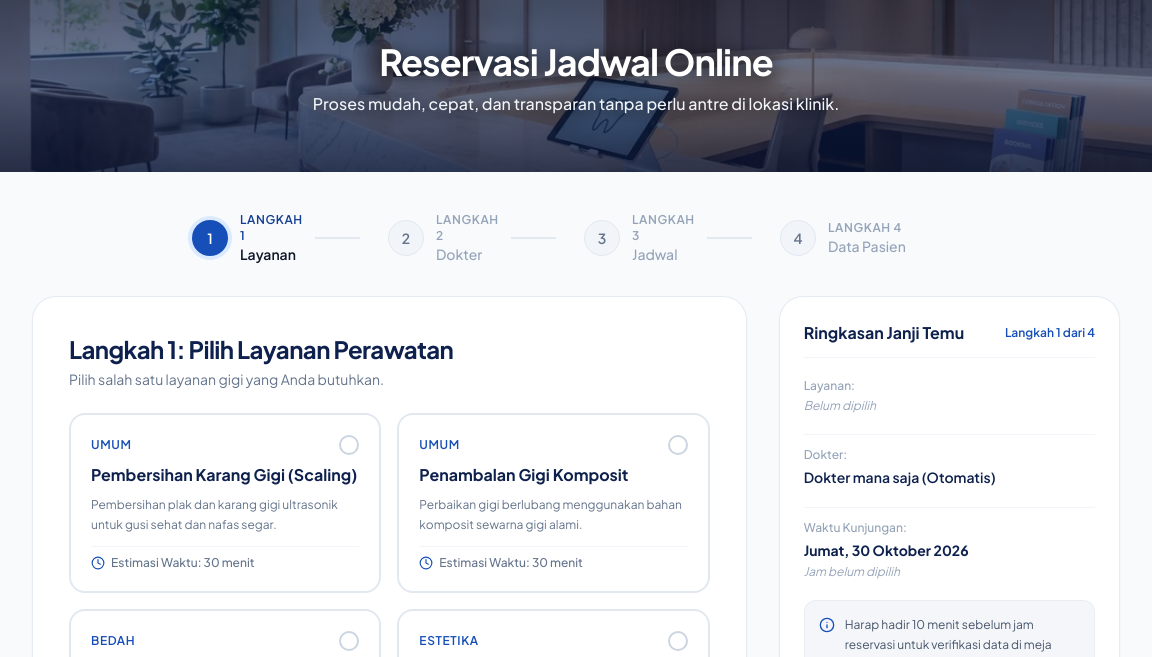
Booking.vue (FR-7.1 - FR-7.11) › selects service and proceeds to Step 2 (FR-7.2)
This screenshot has width=1152, height=657.
Click the element with class "cursor-pointer" that starts with "Umum" at (225,503), box [69,413,381,593]
(page scrolled)
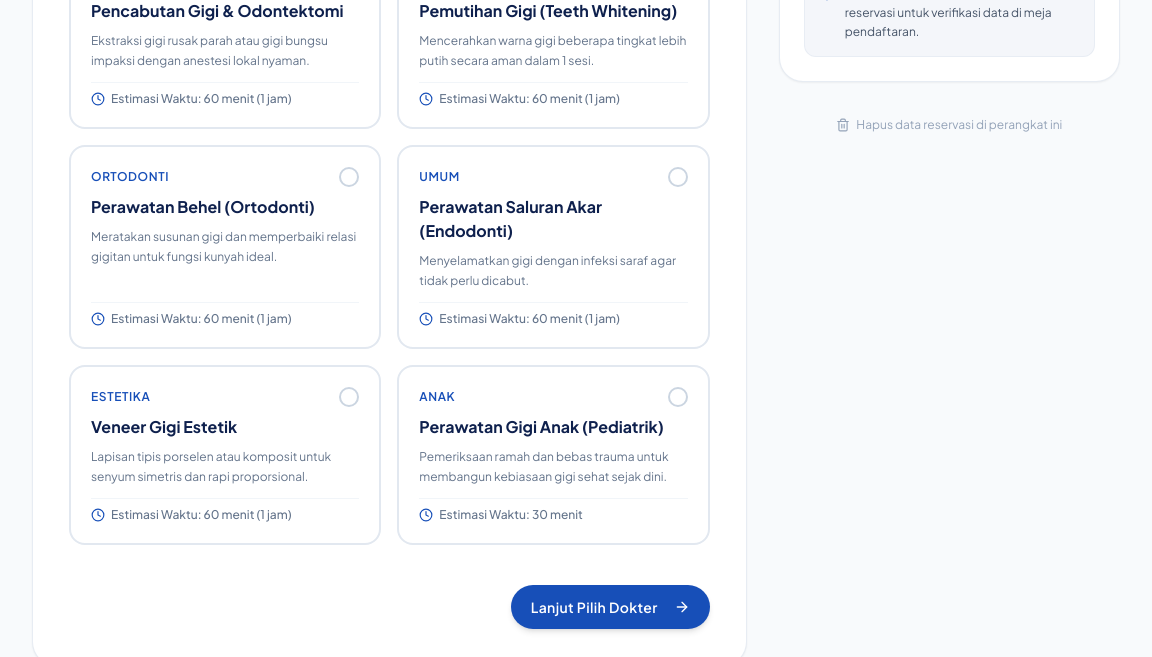
Click the button "Lanjut Pilih Dokter" at (610,607), box [511,585,710,629]
(page scrolled)
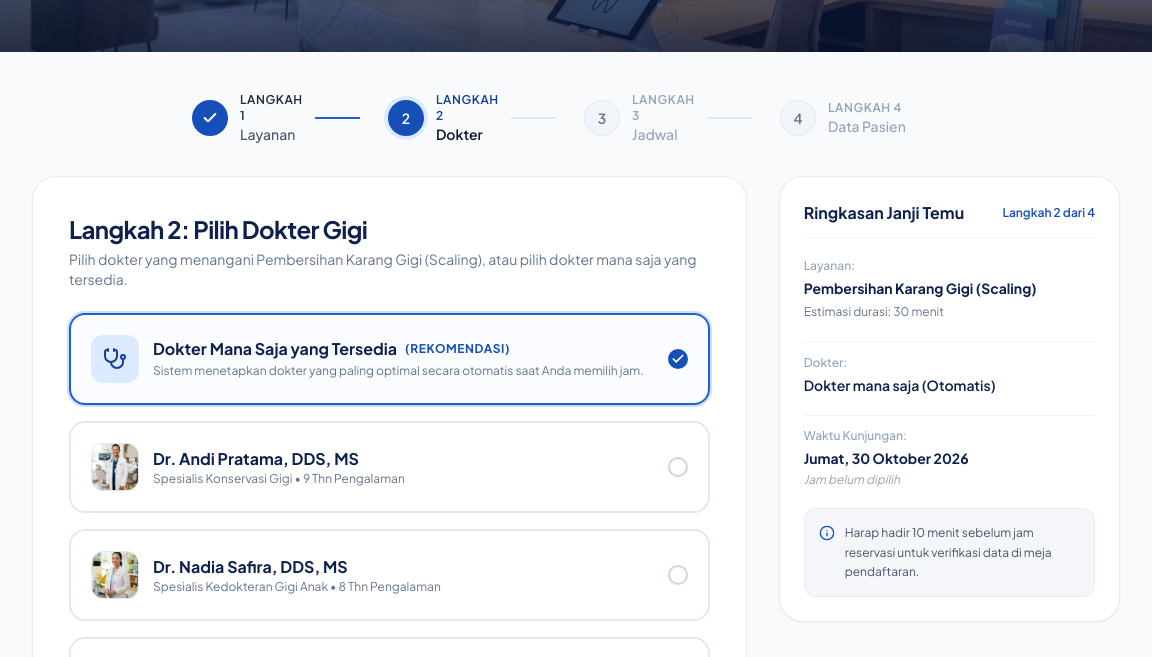
Result: the text "Langkah 2: Pilih Dokter Gigi" is shown at [69,214,367,244]
Result: the text "Dokter Mana Saja yang Tersedia" is shown at [69,250,696,288]
